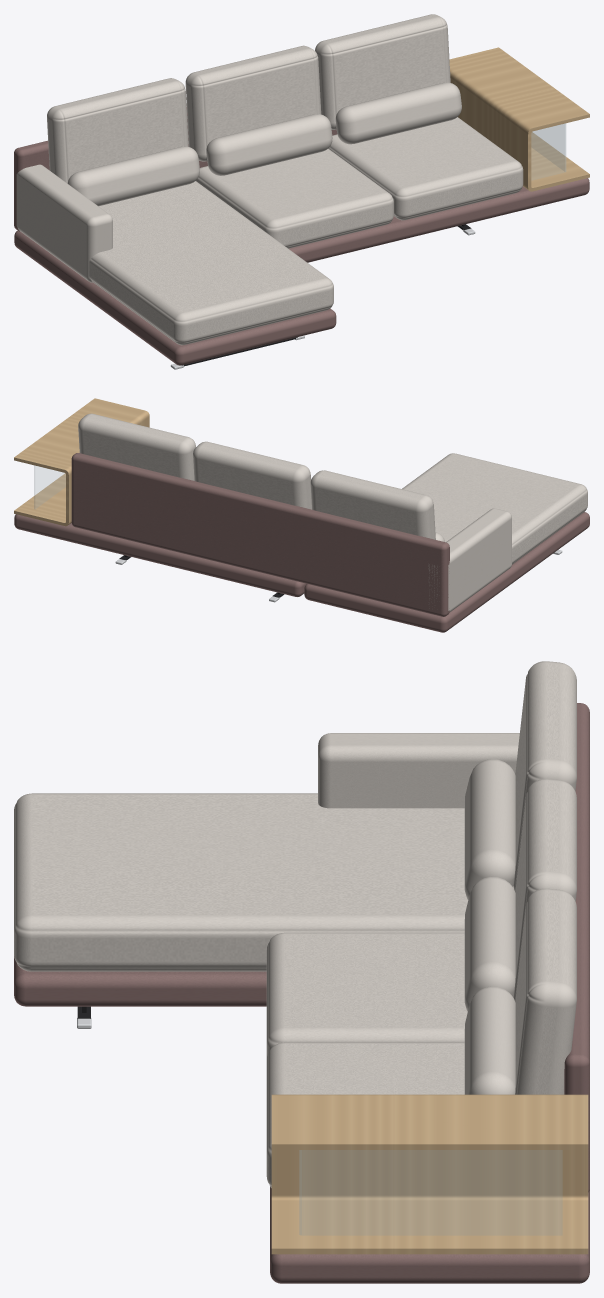
The model's file is ownFloatL.glb.
3 views of the same model, one above another, from view 1: azimuth 30°, elevation 25°; view 2: azimuth 150°, elevation 25°; view 3: azimuth 270°, elevation 25° (orthographic). The views are drawn at different scales.
Size of the model in its own units: 3.06 by 0.944 by 1.8.
Materials: 6 (3 with a texture image).
